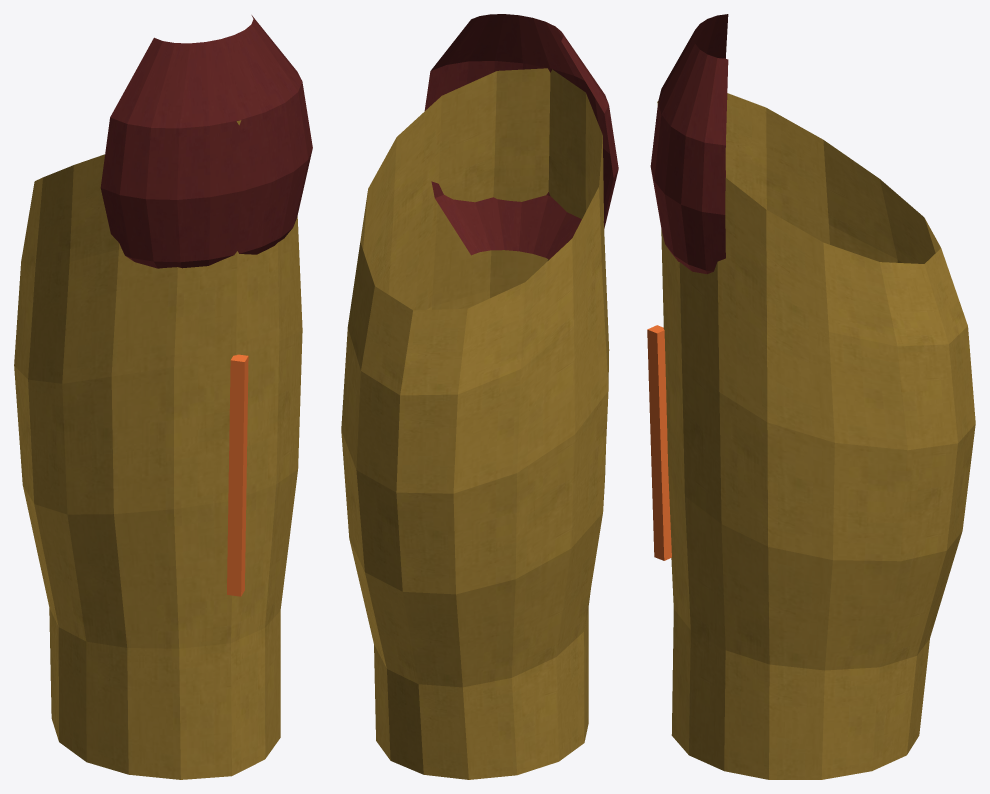
Rendered from eq_past_3_leg.glb.
3 renders of one model, left to right at view 1: azimuth 30°, elevation 25°; view 2: azimuth 150°, elevation 25°; view 3: azimuth 270°, elevation 25°, orthographic. The views are drawn at different scales.
Parts seen in each view (by area): view 1: eq_past_3_leg; view 2: eq_past_3_leg; view 3: eq_past_3_leg.
Boxes of the visible parts, <box> form: eq_past_3_leg: <box>14,15,312,779</box>; eq_past_3_leg: <box>341,14,618,779</box>; eq_past_3_leg: <box>647,14,975,779</box>.
Bounding box in the file's own units: 0.1598 × 0.4644 × 0.1978.
3 materials, 3 textured.
